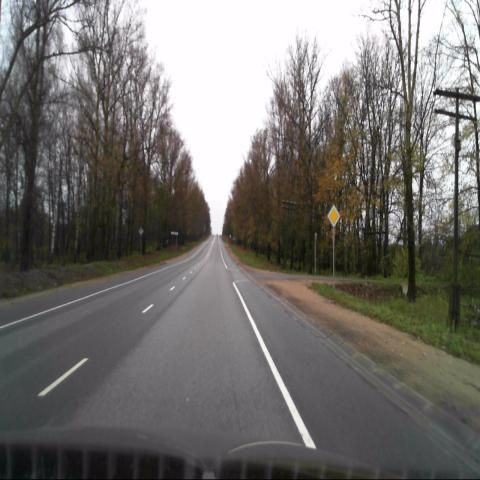2_1: (328, 205, 340, 227)
